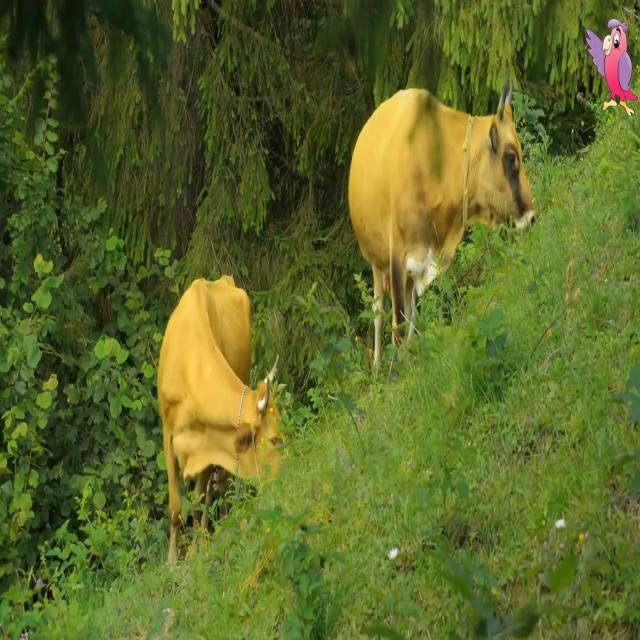cow: (349, 90, 536, 368), (158, 276, 279, 562)
